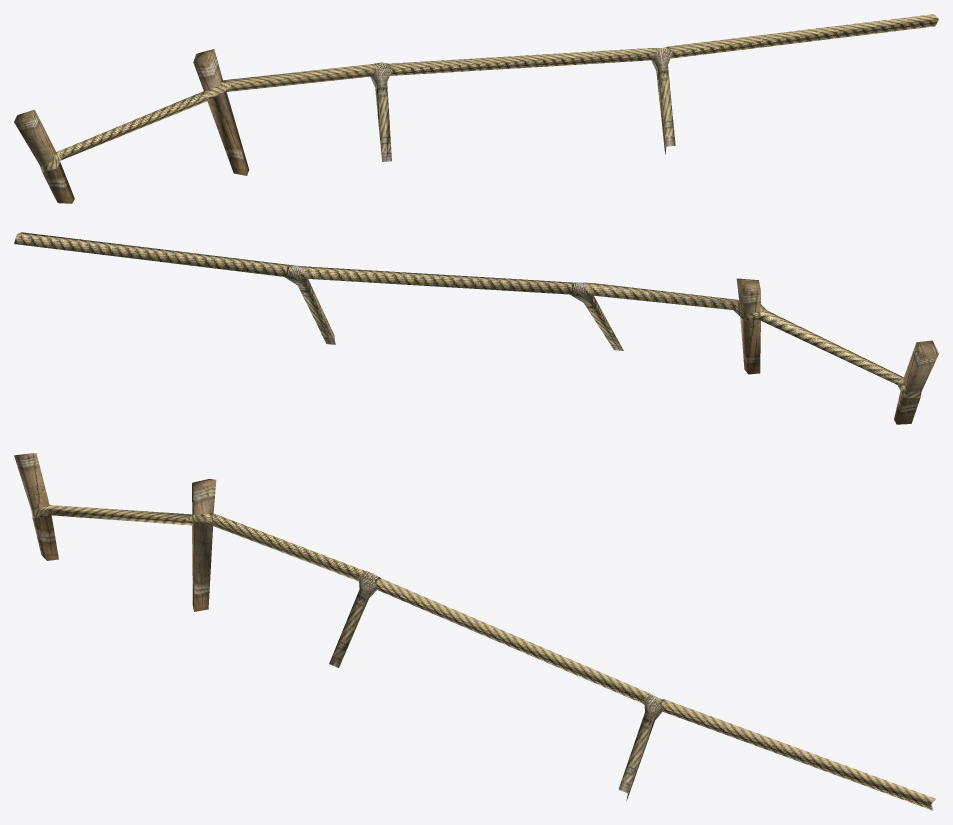
File: Mission8_RopeBridge_B1.glb
3 views of the same model, one above another, from view 1: azimuth 30°, elevation 25°; view 2: azimuth 150°, elevation 25°; view 3: azimuth 330°, elevation 25° (orthographic).
Visible parts, largest first — view 1: MISSION8_ROPEBRIDGE_B1; view 2: MISSION8_ROPEBRIDGE_B1; view 3: MISSION8_ROPEBRIDGE_B1.
Part boxes in pixels (left/top/right/bottom): MISSION8_ROPEBRIDGE_B1: left=14, top=14, right=938, bottom=203; MISSION8_ROPEBRIDGE_B1: left=14, top=232, right=938, bottom=424; MISSION8_ROPEBRIDGE_B1: left=14, top=453, right=935, bottom=810.
Size of the model in its own units: 12.78 by 2.55 by 0.884.
Materials: 4 (4 with a texture image).
